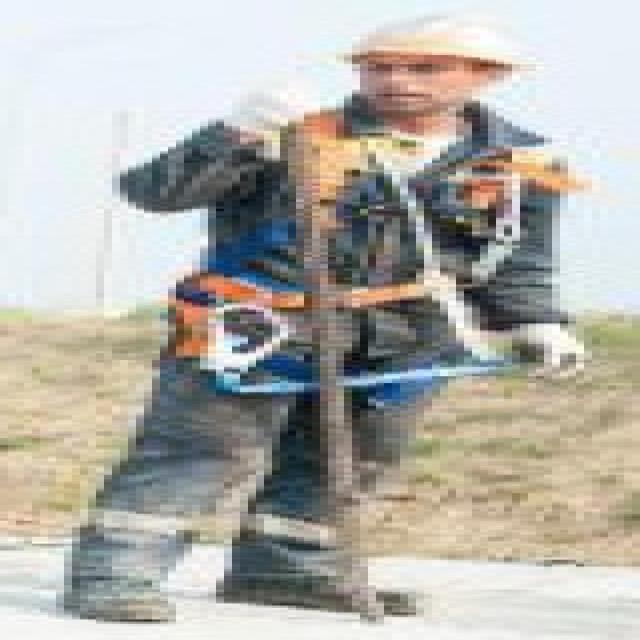Helmet: (154, 74, 640, 454), (291, 0, 605, 100)
